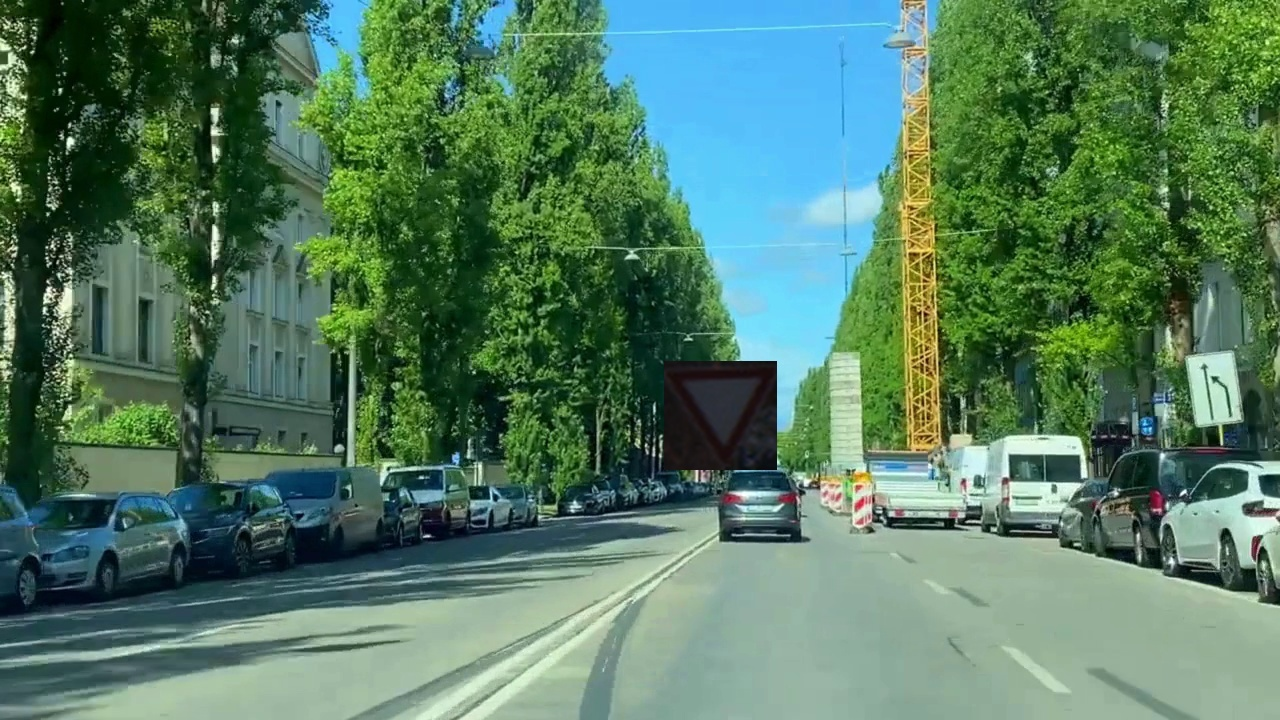Yield: (664, 361, 777, 470)
